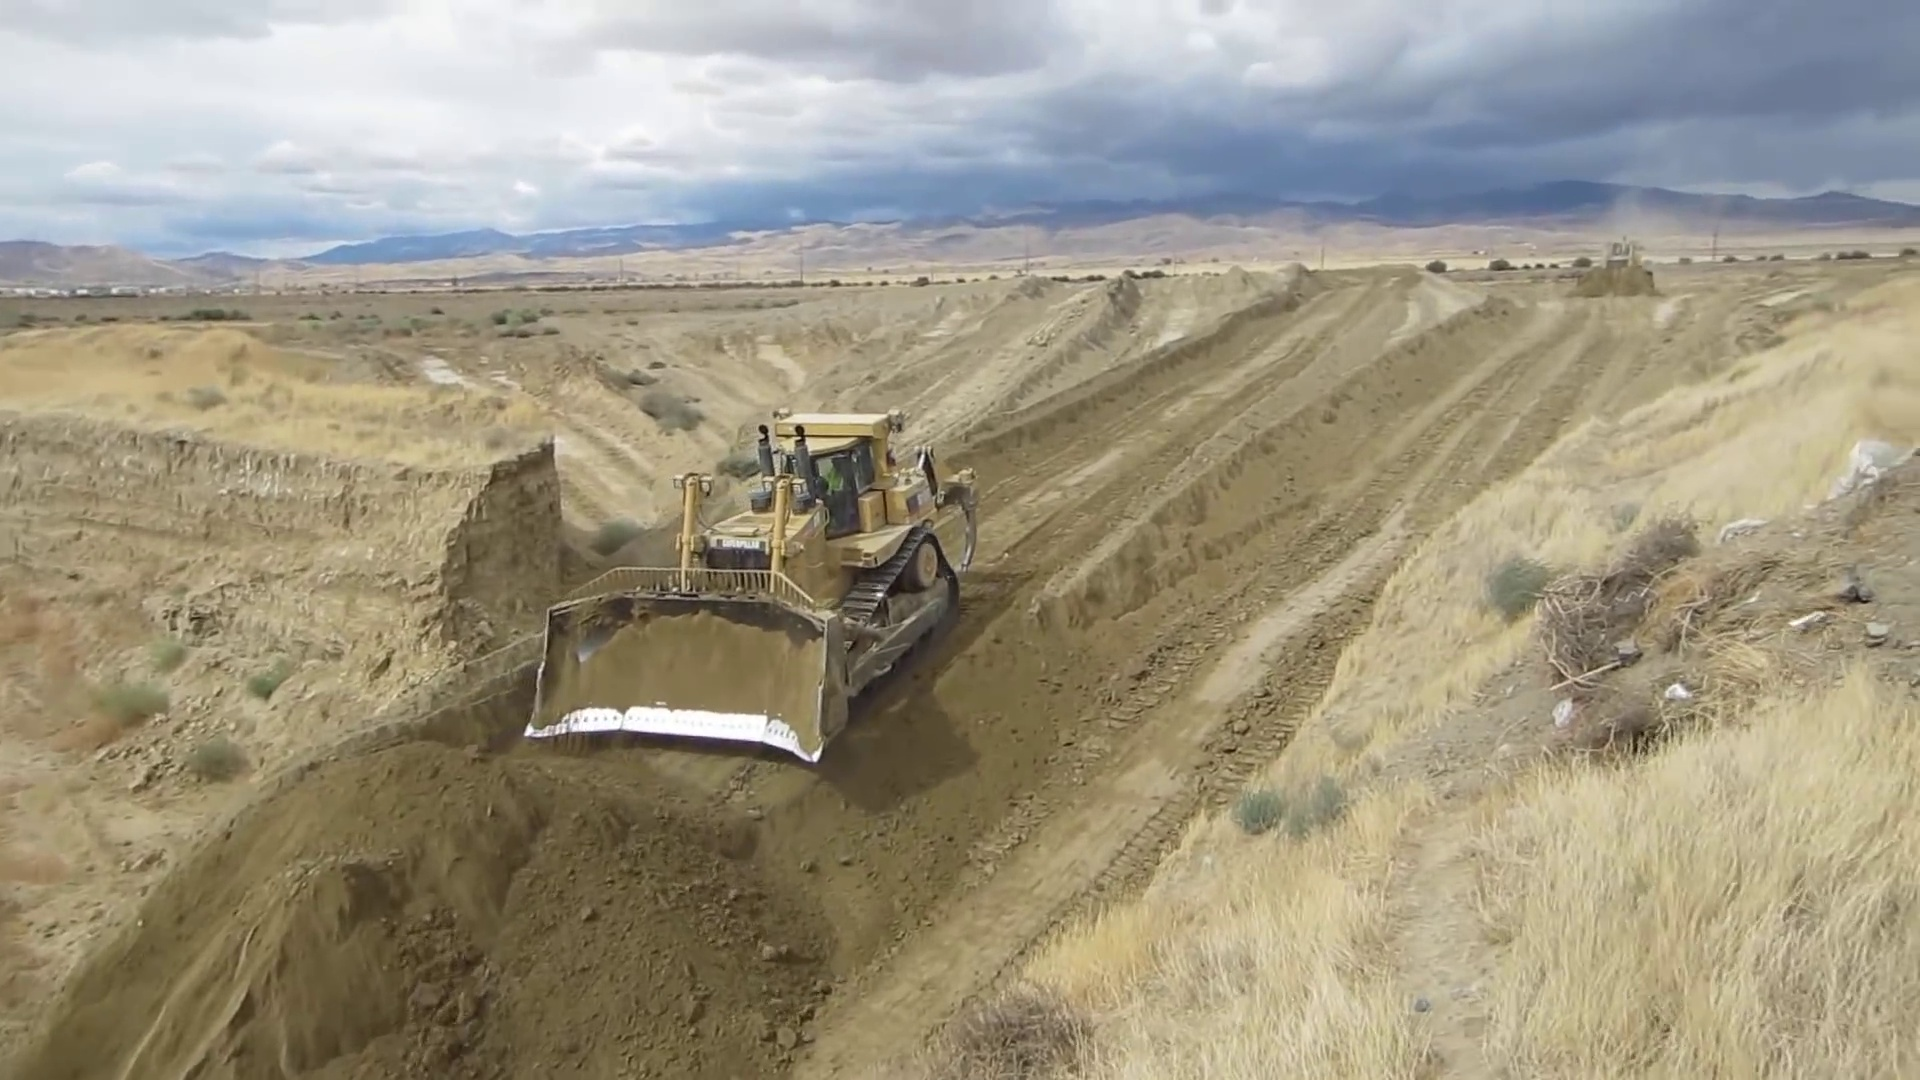bulldozer: (525, 407, 982, 767)
